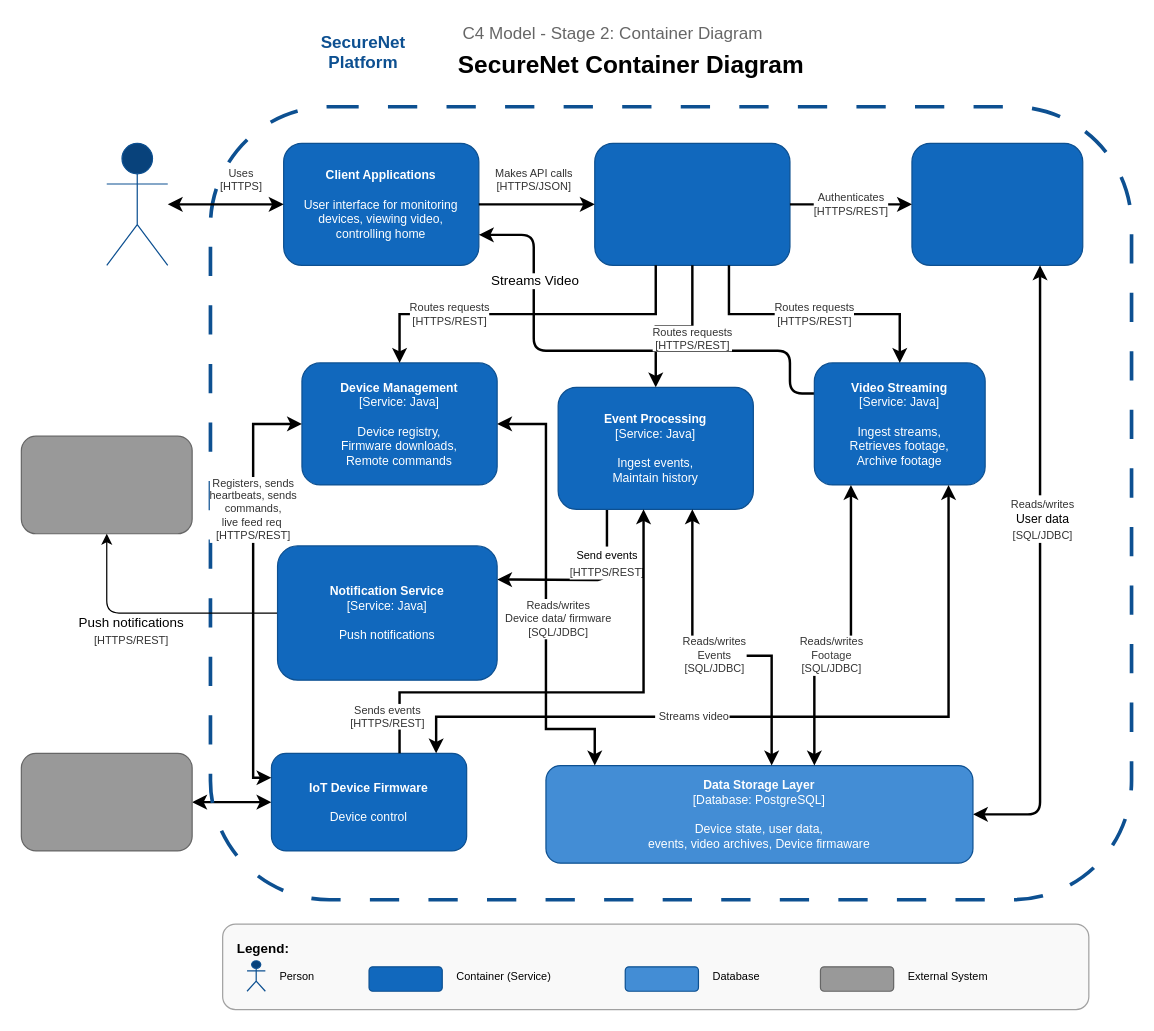
The diagram is 1154 pixels wide and 1031 high, and some of its shapes have lost their labels. Each missing label, with the box of its shape:
API Gateway [Container: Java] Authentication, routing, rate limiting: (594, 142, 790, 265)
IoT Devices [External System] Cameras, locks, sensors: (20, 752, 192, 851)
Push Services [External System] APNs, FCM: (20, 435, 192, 534)
User Management [Service: Java] User profiles: (911, 142, 1083, 265)
